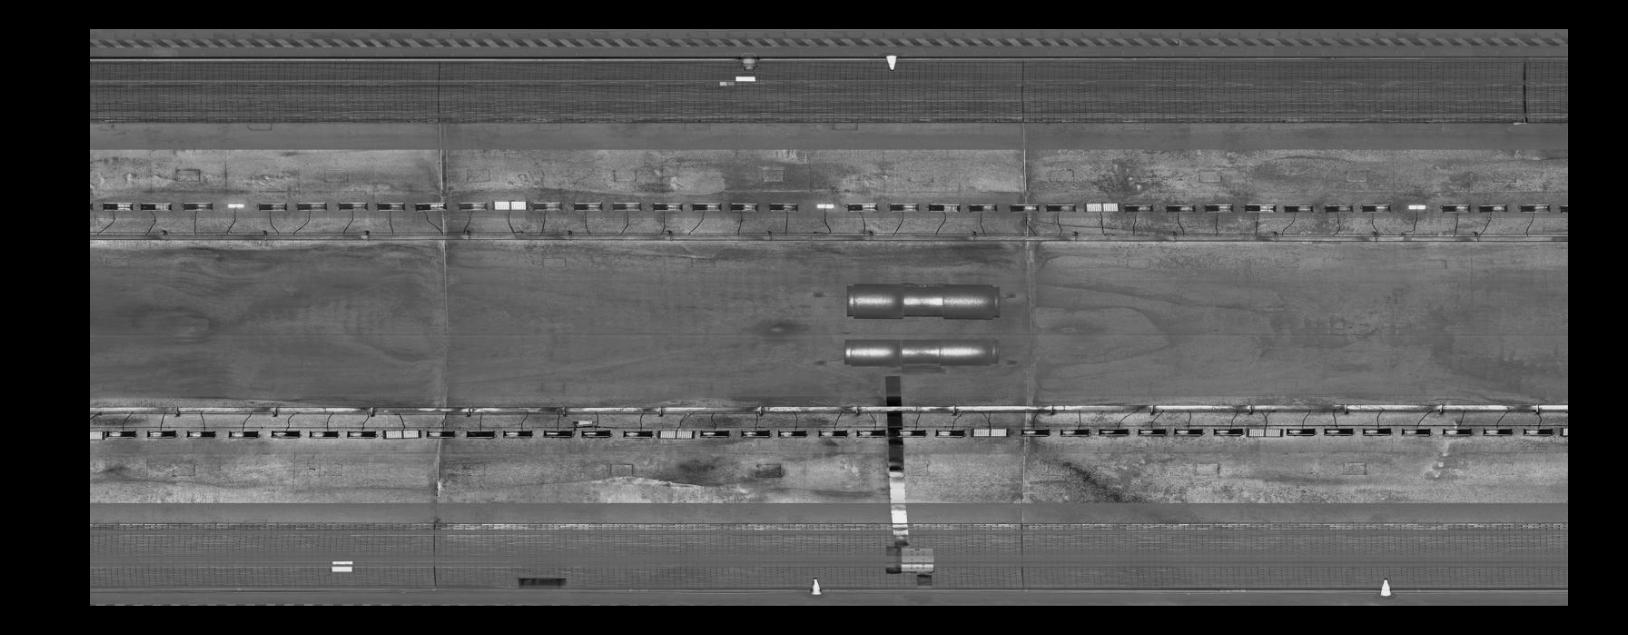light: (380, 427, 423, 441), (1243, 425, 1284, 439), (970, 425, 1011, 439), (1242, 201, 1280, 216), (1082, 200, 1120, 215), (656, 427, 697, 441), (530, 198, 566, 213), (649, 199, 686, 213), (1044, 200, 1079, 215), (136, 200, 175, 213), (925, 201, 964, 214), (1006, 200, 1041, 214), (571, 199, 606, 213), (412, 199, 447, 213), (1203, 200, 1236, 215), (491, 199, 528, 212), (181, 427, 218, 440), (1518, 200, 1552, 214), (1281, 202, 1315, 216), (1163, 201, 1197, 215), (966, 200, 1000, 214), (295, 199, 329, 213), (739, 426, 774, 440), (699, 425, 733, 439), (541, 426, 575, 440), (99, 200, 135, 213), (305, 427, 342, 440), (225, 427, 262, 440), (1439, 201, 1472, 215), (609, 199, 643, 213), (335, 199, 369, 213), (887, 200, 922, 213), (454, 199, 489, 212), (463, 427, 498, 440), (423, 426, 458, 439), (178, 200, 216, 212), (267, 427, 305, 439), (1322, 202, 1356, 215), (689, 200, 724, 213), (1520, 425, 1557, 437), (895, 426, 929, 439), (621, 427, 655, 440), (1358, 202, 1394, 214), (142, 427, 179, 439), (1121, 202, 1155, 215), (727, 201, 760, 214), (375, 199, 408, 212), (854, 427, 888, 440), (580, 427, 614, 440), (345, 429, 378, 441), (1399, 425, 1434, 437), (1358, 425, 1393, 437), (1321, 425, 1356, 437), (104, 427, 139, 439), (256, 200, 289, 213), (845, 200, 879, 212), (1283, 425, 1318, 437), (1016, 426, 1051, 438), (500, 427, 535, 439), (1480, 426, 1517, 437), (1057, 426, 1094, 437), (1476, 202, 1510, 214), (1171, 425, 1204, 437), (816, 427, 849, 439), (776, 427, 809, 439), (1439, 426, 1475, 437), (1095, 426, 1132, 437), (765, 201, 801, 212), (1212, 426, 1246, 437), (934, 427, 966, 439), (1136, 426, 1168, 436), (1404, 201, 1430, 212), (222, 201, 248, 210), (813, 201, 836, 211), (90, 429, 104, 440), (1557, 200, 1567, 215), (1558, 423, 1567, 439)
